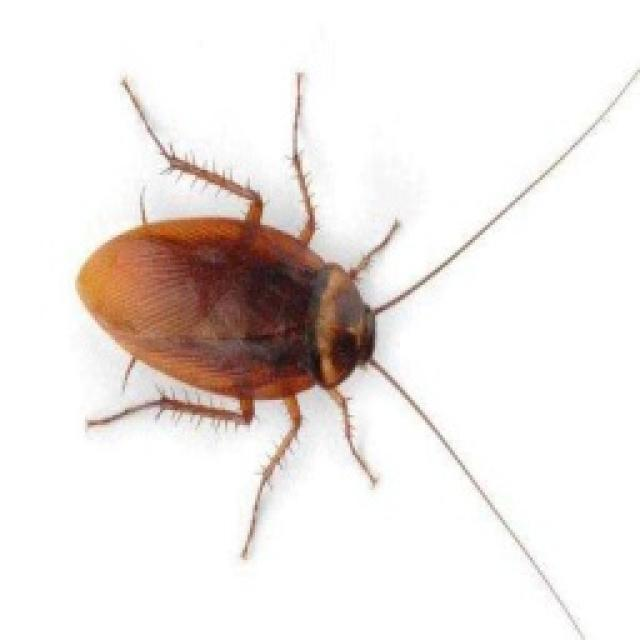cockroach: (69, 62, 624, 634)
